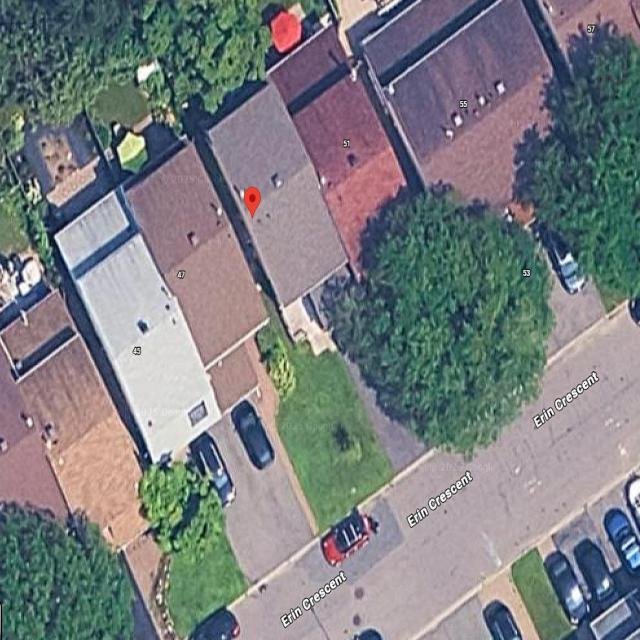Building: (208, 87, 364, 358)
boundaryof property: (165, 6, 449, 532)
obstacle: (233, 395, 276, 475), (192, 436, 235, 508), (321, 512, 374, 570), (340, 433, 366, 467)
walkways: (337, 303, 444, 477)
